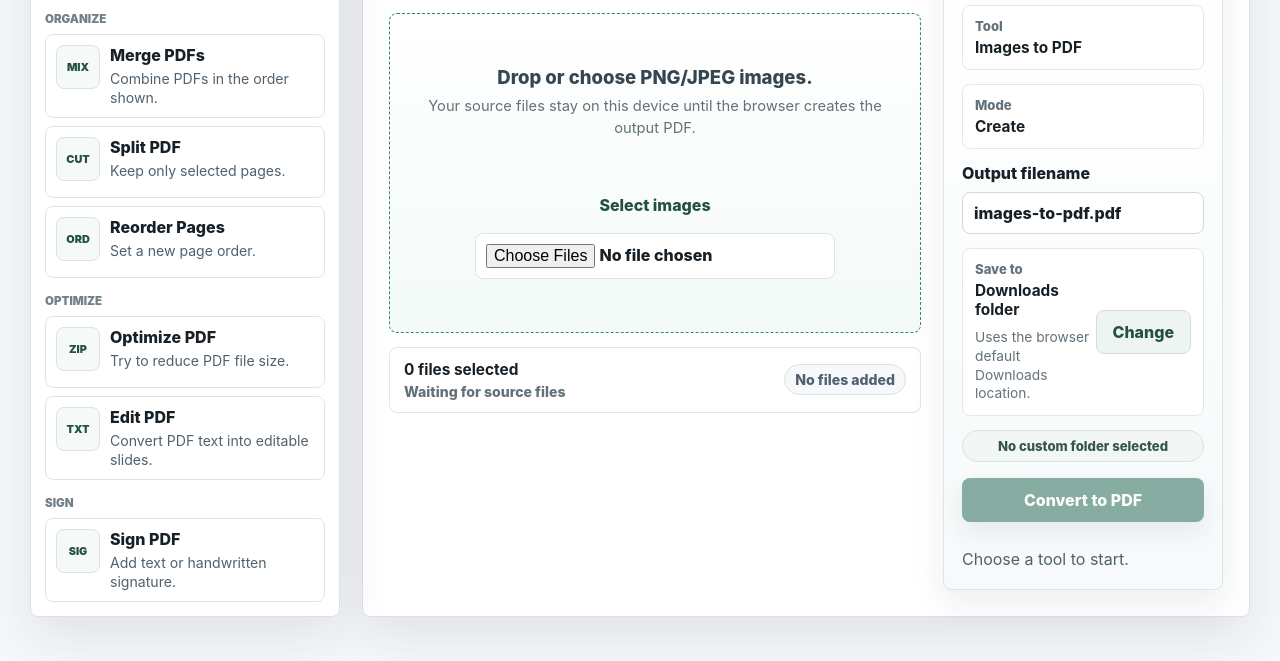
it: App › lets supported browsers choose a save folder before processing
(page scrolled)
Click the button with aria-label "Choose save folder".
click(1143, 332)  # box [1096,310,1191,354]
(page scrolled)
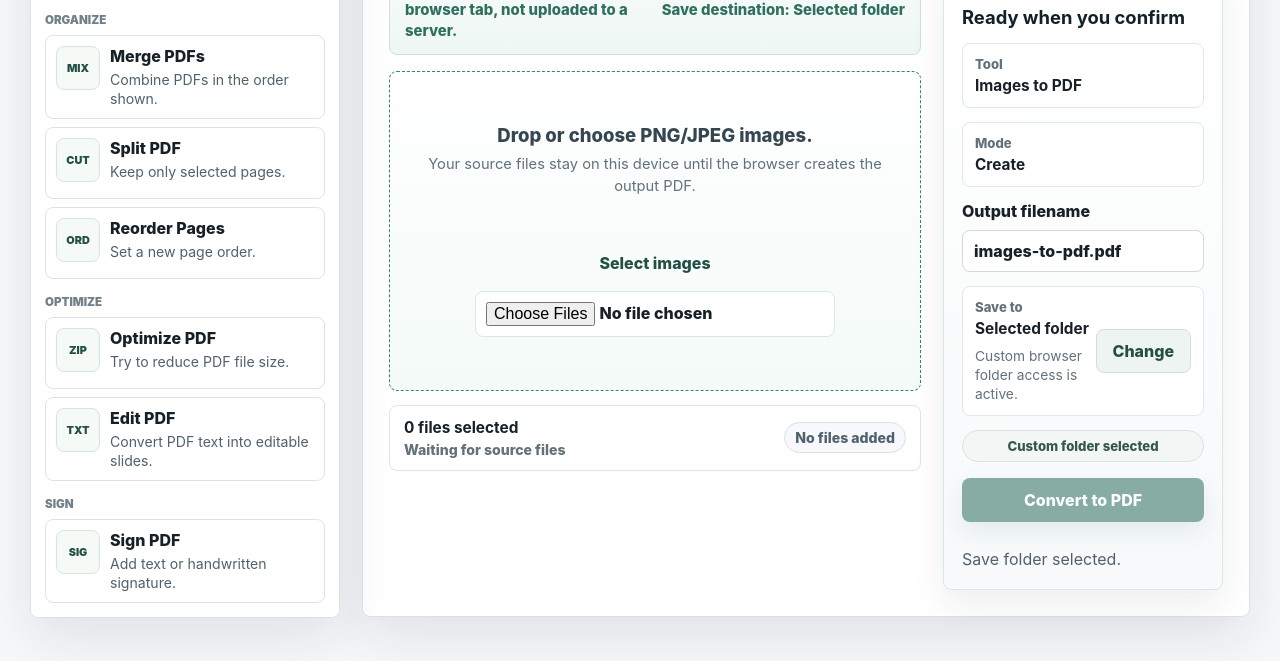
Expected: the text "Save folder selected." is shown, [962,549,1121,569]
